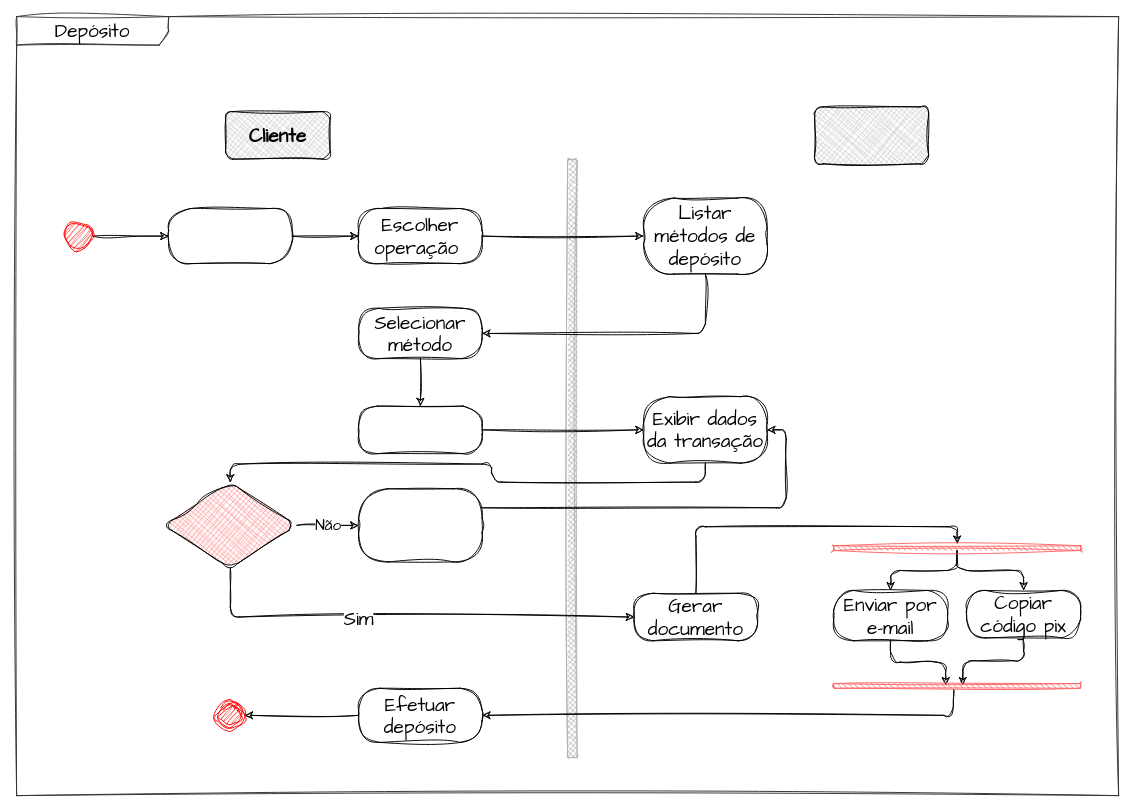
Image size: 1135x812. Some labels were removed from this diagram. The shapes that lost their labels are listed below. From the top down, each one's box as (x1, y1, x2, y2) in pixels, then its label:
(814, 106, 929, 164): Sistema
(168, 208, 292, 264): Abrir aplicativo
(358, 405, 482, 454): Definir valor
(163, 482, 297, 568): Conferir dados
(358, 488, 482, 562): Adicionar dados corretos
